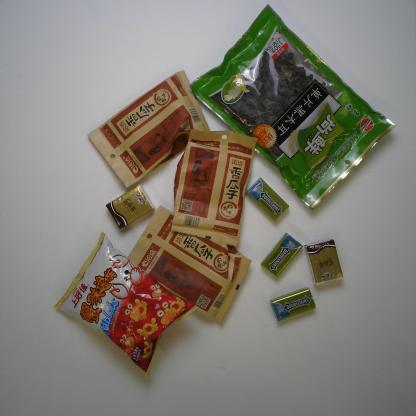Dried Food: (188, 4, 397, 212), (86, 70, 210, 190), (126, 205, 251, 323), (169, 125, 258, 248)
Gum: (260, 233, 304, 279), (244, 178, 289, 222), (270, 286, 318, 322)
Puffed Food: (50, 231, 200, 376)
Tissue: (106, 185, 153, 229), (304, 239, 345, 288)
